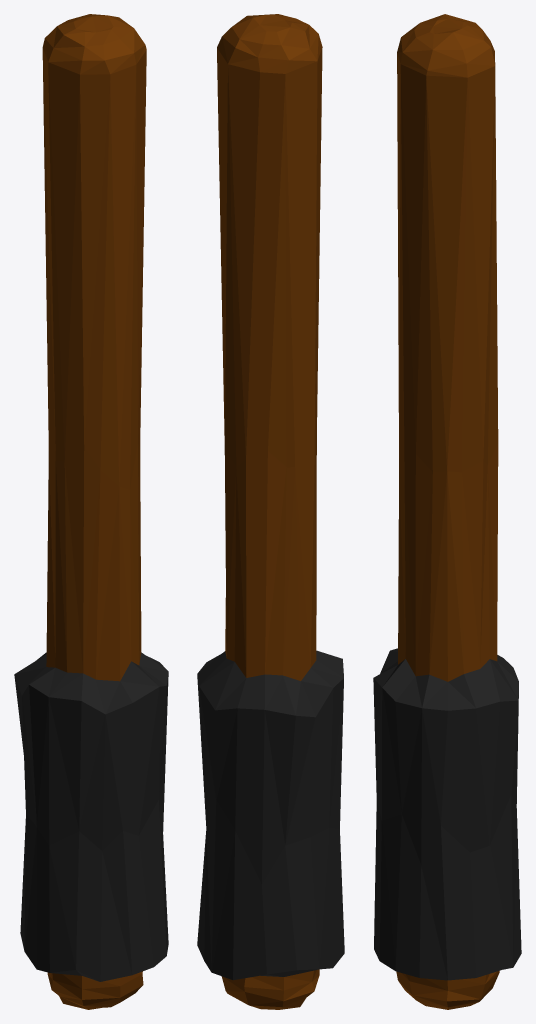
Rendered from Torch.fbx.
3 renders of one model, left to right at view 1: azimuth 30°, elevation 25°; view 2: azimuth 150°, elevation 25°; view 3: azimuth 270°, elevation 25°, orthographic.
Visible parts, largest first — view 1: Cylinder; view 2: Cylinder; view 3: Cylinder.
Boxes of the visible parts, left/top/right/bottom form: Cylinder: left=14, top=14, right=168, bottom=1009; Cylinder: left=197, top=14, right=344, bottom=1009; Cylinder: left=373, top=14, right=521, bottom=1009.
Bounding box in the file's own units: 6.63 × 48.34 × 6.65.
